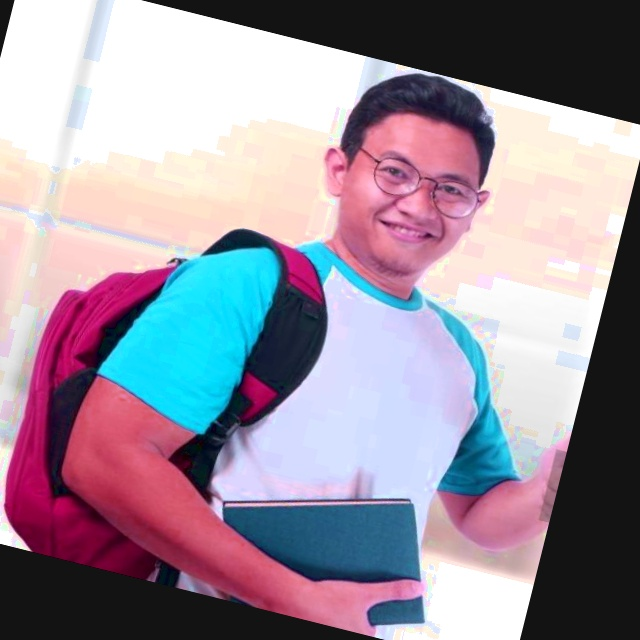Sin_Casco_Mascarrilla: (301, 55, 516, 290)
Sin_Chaleco: (145, 232, 506, 640)
